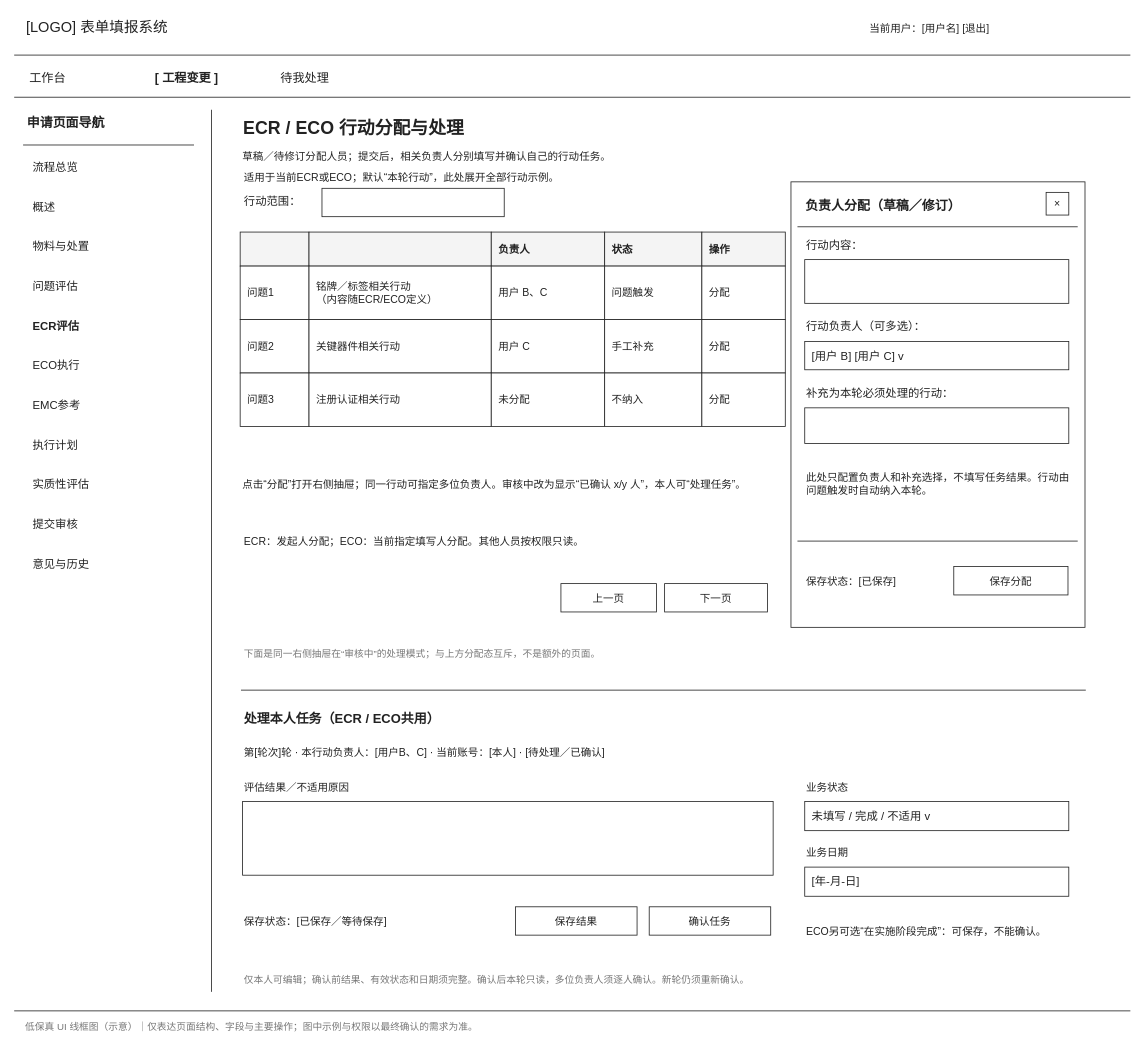
Some shapes in this 1144 by 1053 pixel diagram are drawn without their labels. The shapes that lost their labels are listed below. From the top down, each one's centre as x and y in pixels, then its label:
At [412,202]: "全部行动 v".
At [274,248]: "关联问题".
At [399,248]: "行动事项".
At [936,281]: "[该行动的说明]".
At [936,425]: "□ 手工补充（问题触发时禁用）".
At [507,838]: "[填写本人任务结果或不适用原因]".
